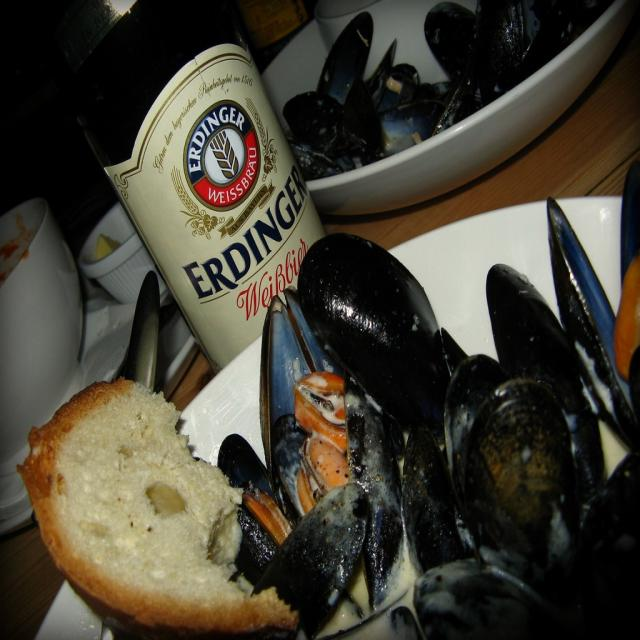erdinger: (154, 73, 312, 308)
